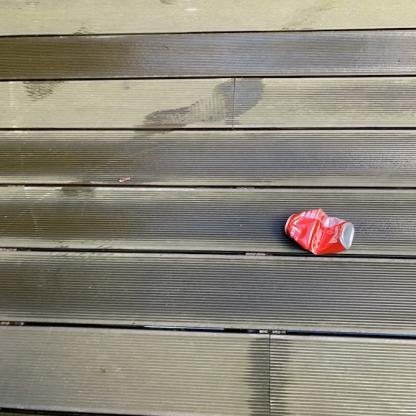trash: (284, 211, 360, 258)
